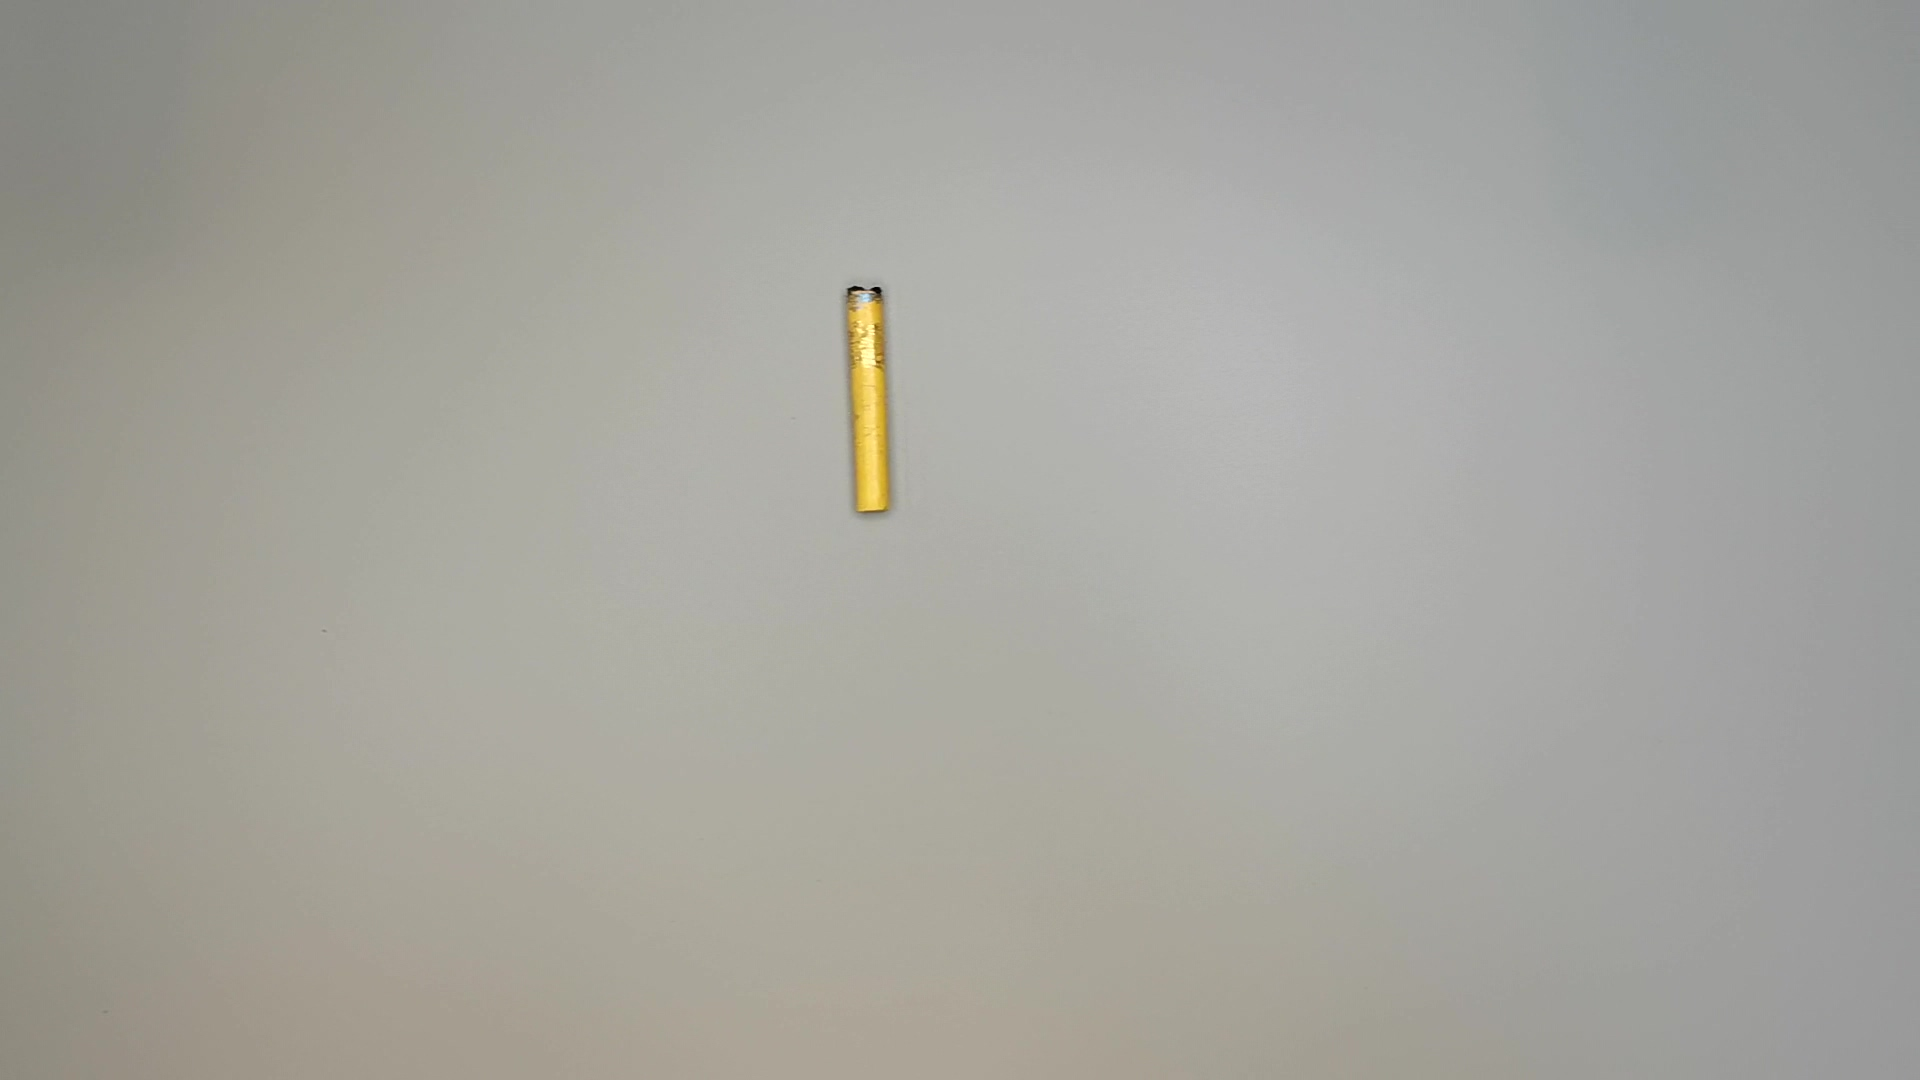cigarette: (836, 280, 909, 520)
